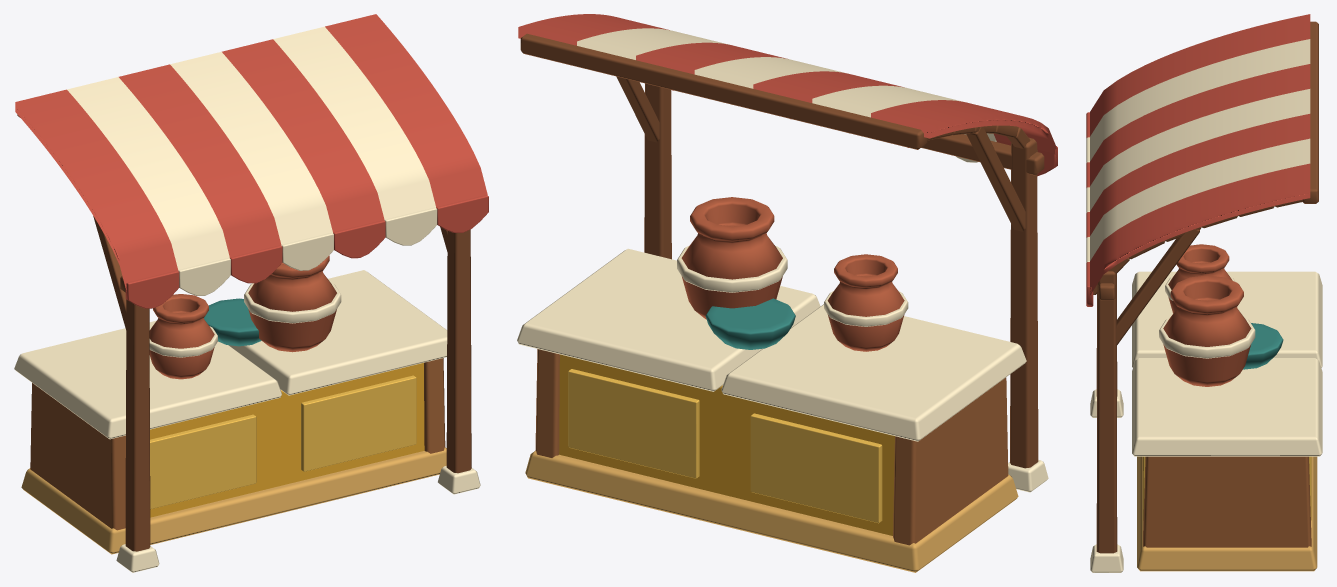
File: a_stall_north.glb
3 views of the same model, side by side, from view 1: azimuth 30°, elevation 25°; view 2: azimuth 150°, elevation 25°; view 3: azimuth 270°, elevation 25° (orthographic). The views are drawn at different scales.
Visible parts, largest first — view 1: a_stall_north; view 2: a_stall_north; view 3: a_stall_north.
Part boxes in pixels (x1,y1,x2,y2): a_stall_north: (14, 14, 488, 572); a_stall_north: (517, 14, 1057, 572); a_stall_north: (1086, 14, 1322, 572).
Size of the model in its own units: 2.9 by 3.01 by 1.66.
